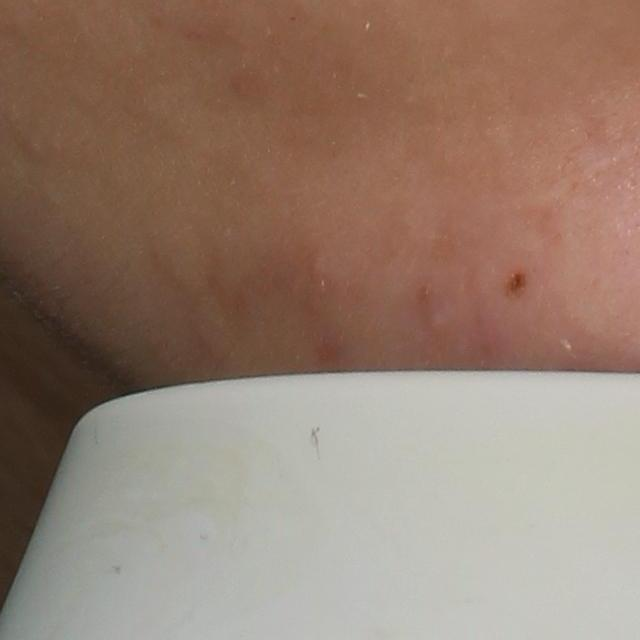comedo: (424, 314, 447, 336)
nevus: (504, 269, 534, 299)
